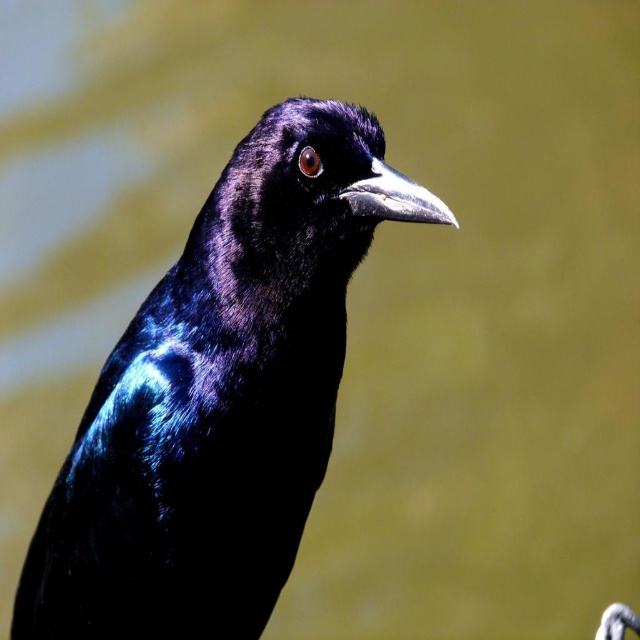Raven: (28, 116, 425, 640)
